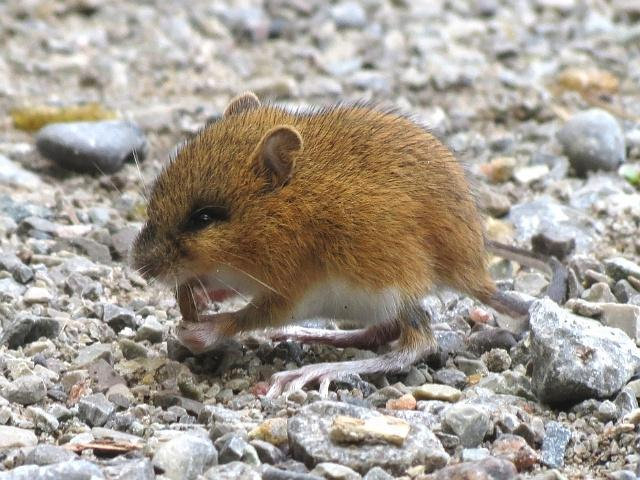rat: (132, 92, 568, 353)
